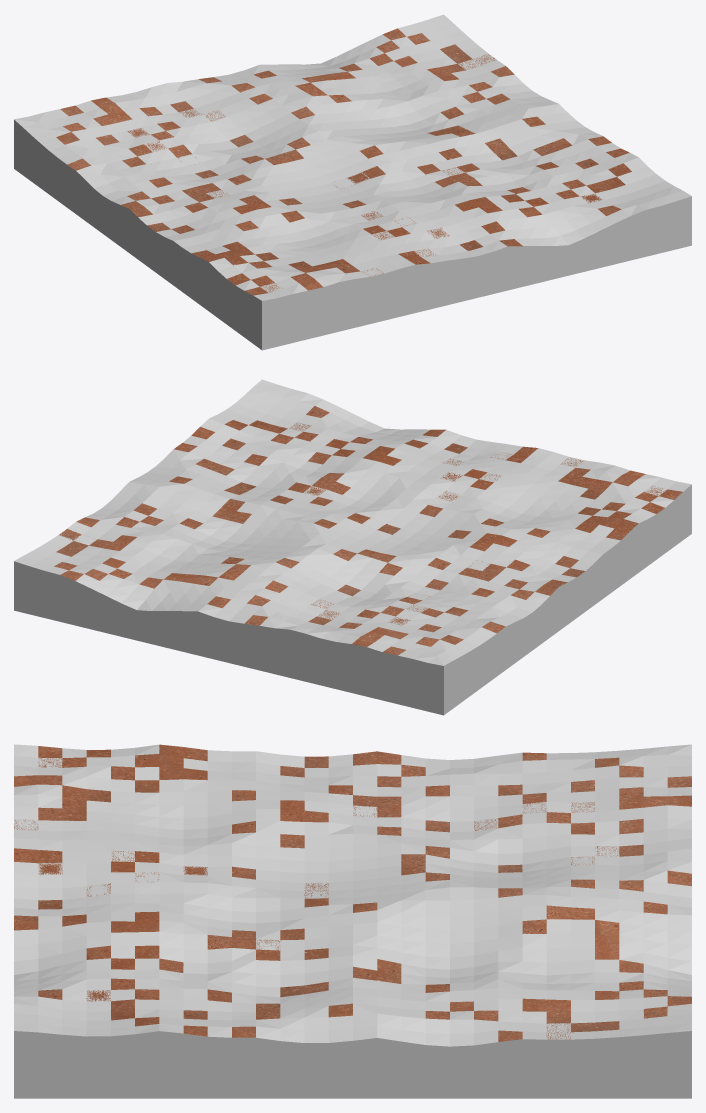
The model's file is Ground_flat_03_M03_LOD0.fbx.
The picture shows the model from 3 angles, top to bottom: view 1: azimuth 30°, elevation 25°; view 2: azimuth 150°, elevation 25°; view 3: azimuth 270°, elevation 25°; orthographic projection. The views are drawn at different scales.
Visible parts, largest first — view 1: Ground_flat_03_M03_Collidor, Ground_flat_03_M03_LOD0; view 2: Ground_flat_03_M03_Collidor, Ground_flat_03_M03_LOD0; view 3: Ground_flat_03_M03_Collidor, Ground_flat_03_M03_LOD0.
Boxes of the visible parts, bbox=[...] form: Ground_flat_03_M03_Collidor: bbox=[14, 14, 691, 350]; Ground_flat_03_M03_LOD0: bbox=[56, 28, 631, 295]; Ground_flat_03_M03_Collidor: bbox=[14, 379, 691, 715]; Ground_flat_03_M03_LOD0: bbox=[54, 406, 682, 655]; Ground_flat_03_M03_Collidor: bbox=[14, 744, 691, 1098]; Ground_flat_03_M03_LOD0: bbox=[14, 744, 691, 1041].
Size of the model in its own units: 2000 by 229 by 2000.
